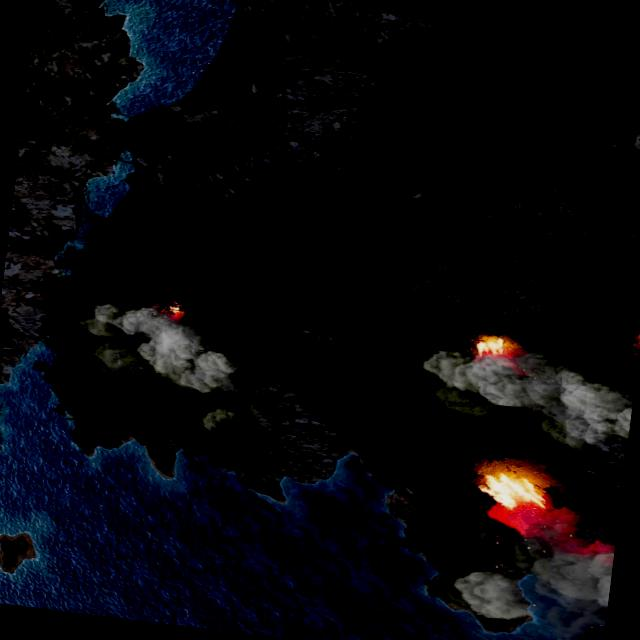fire: (476, 468, 552, 512), (474, 334, 514, 359), (164, 302, 186, 318)
smoke: (413, 336, 638, 471), (444, 495, 617, 640), (74, 293, 250, 395), (451, 564, 538, 624)
